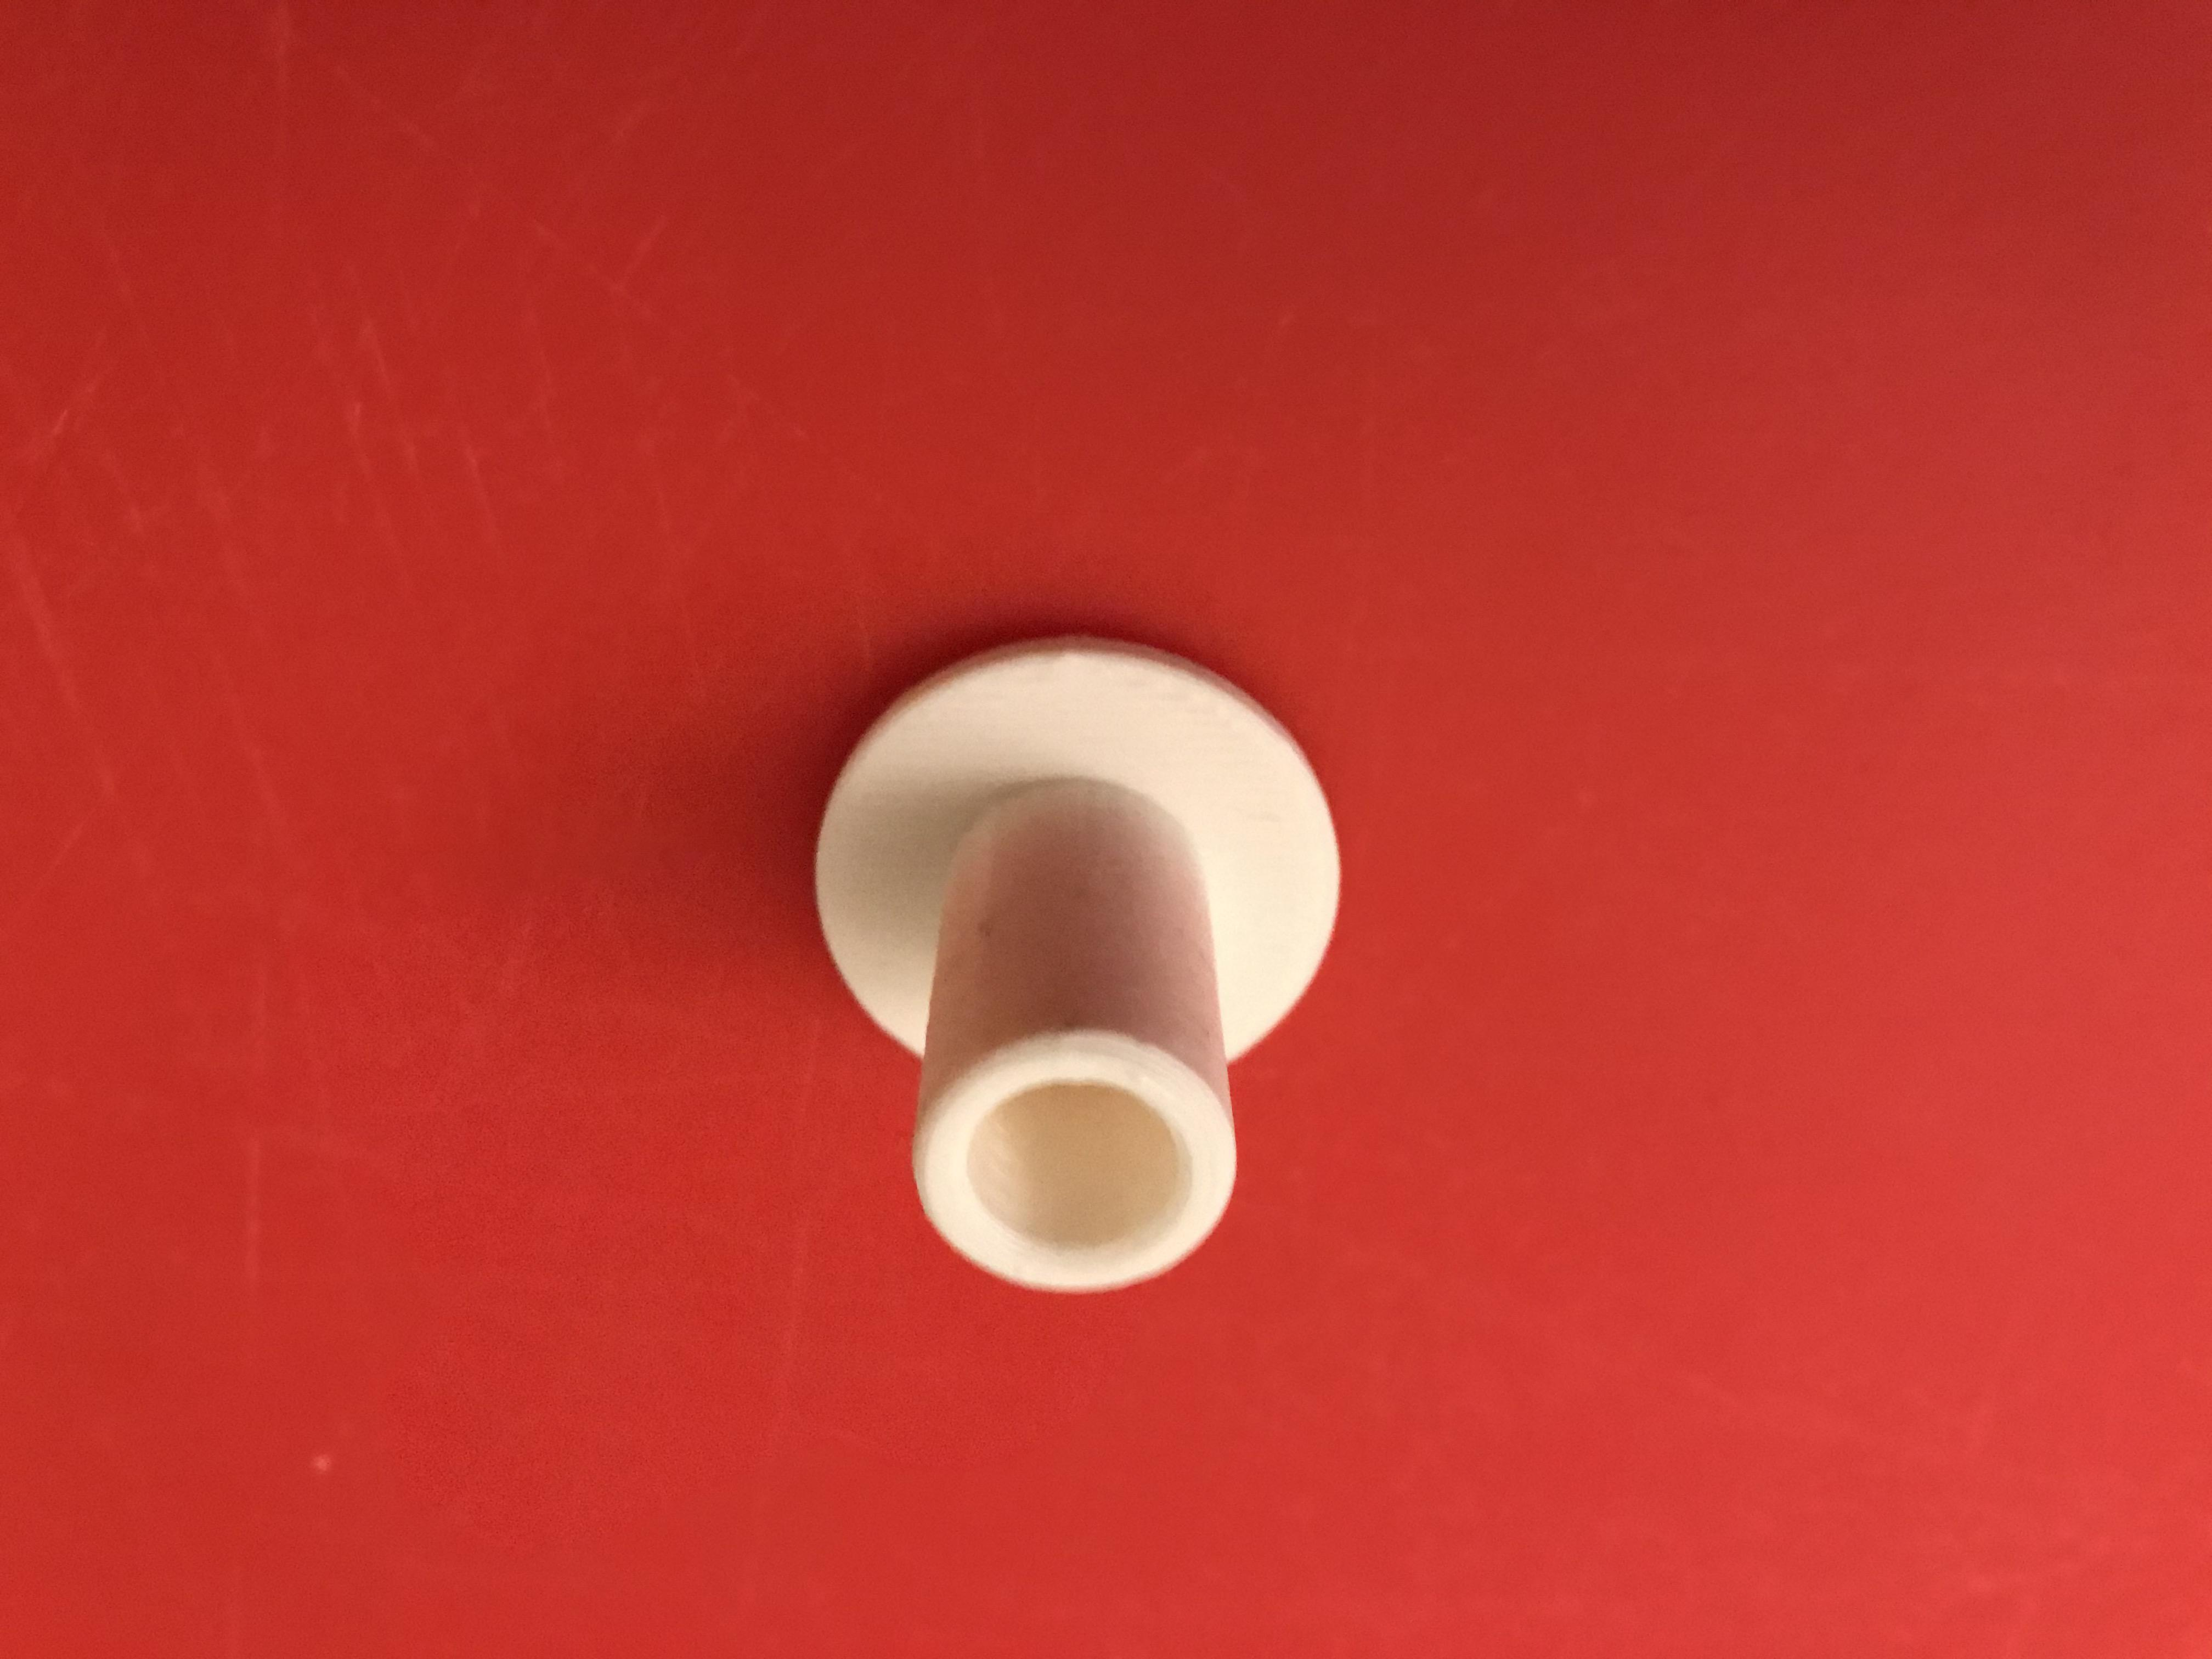White Cone: (815, 627, 1345, 1307)
